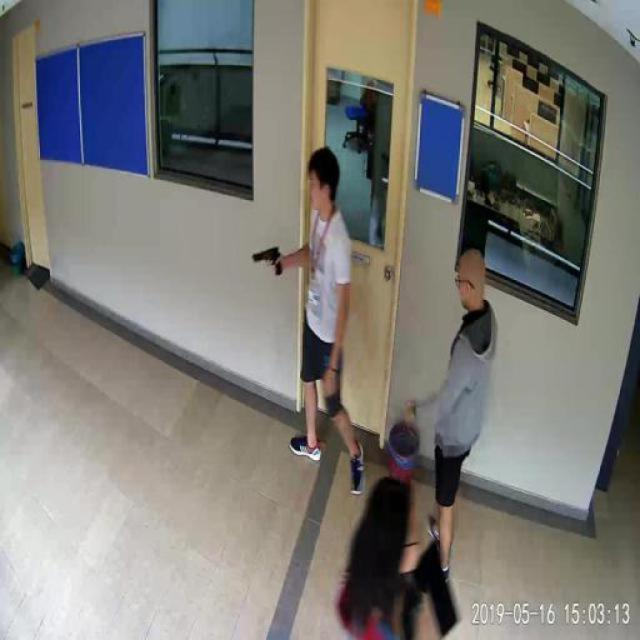pistol: (251, 242, 280, 274)
